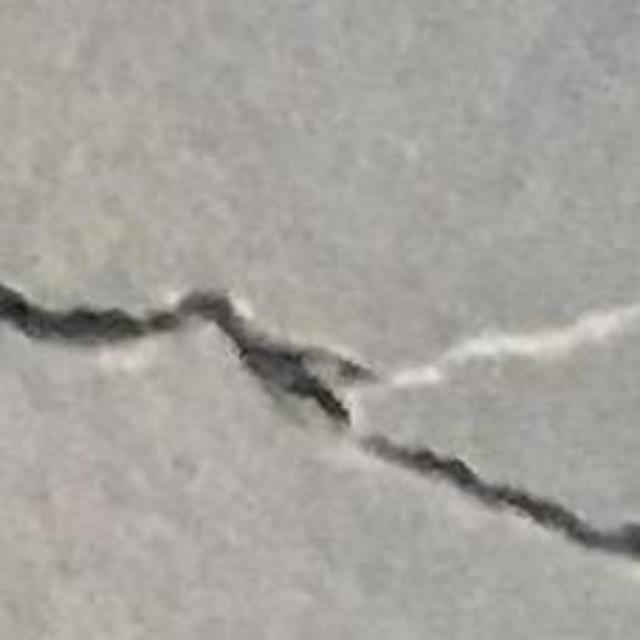crack: (0, 282, 639, 555)
